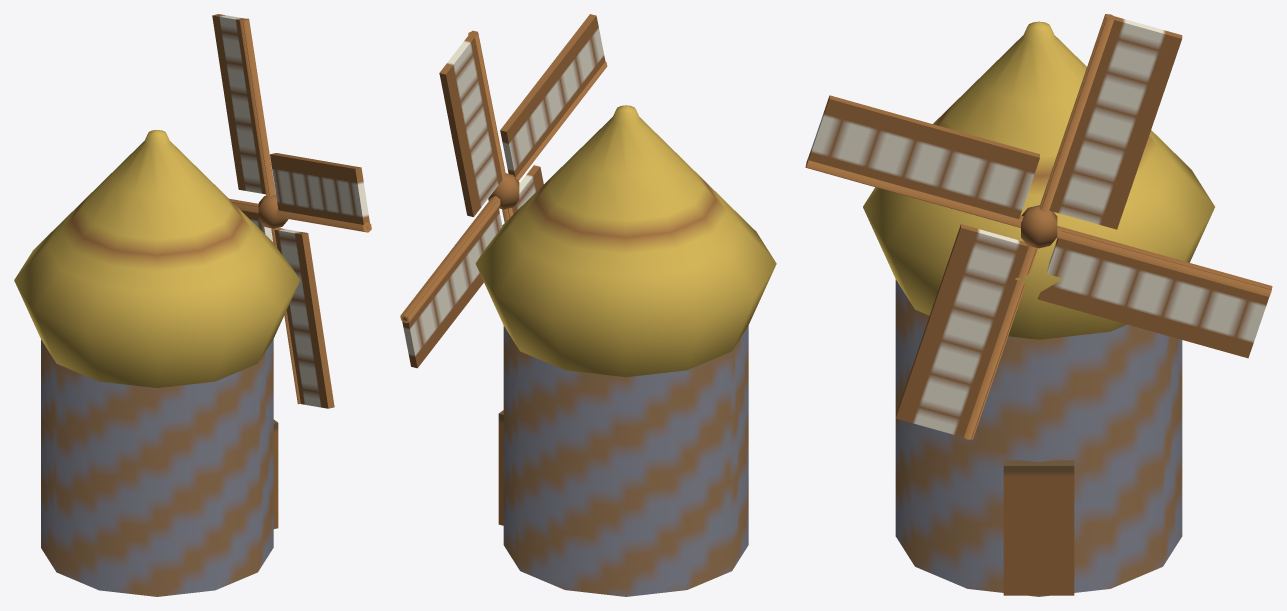
The model's file is prop_windmill_0135.glb.
The picture shows the model from 3 angles, left to right: view 1: azimuth 30°, elevation 25°; view 2: azimuth 150°, elevation 25°; view 3: azimuth 270°, elevation 25°; orthographic projection. The views are drawn at different scales.
Parts seen in each view (by area): view 1: prop_windmill_0135; view 2: prop_windmill_0135; view 3: prop_windmill_0135.
Part boxes in pixels (bbox=[...]): prop_windmill_0135: bbox=[14, 14, 371, 596]; prop_windmill_0135: bbox=[400, 14, 776, 596]; prop_windmill_0135: bbox=[805, 14, 1272, 596].
Size of the model in its own units: 1.45 by 2.62 by 1.87.
Materials: 1 (1 with a texture image).
